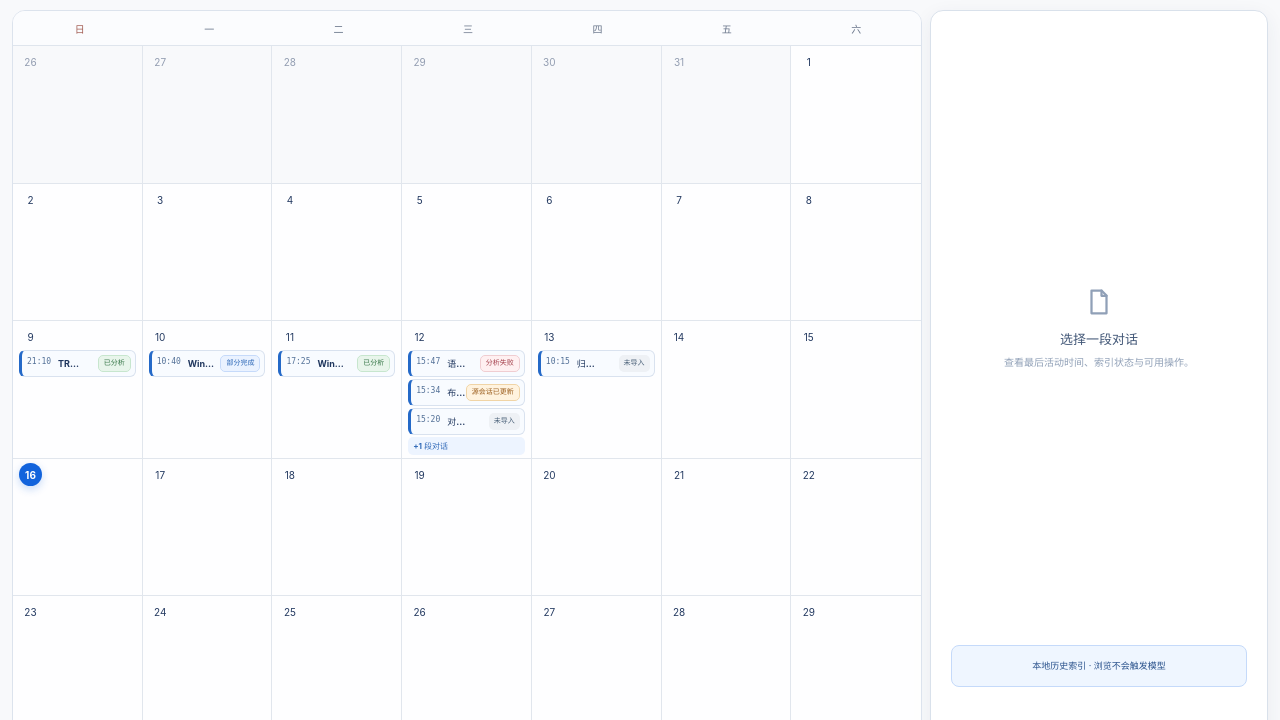
calendar presentation › renders 42 month cells and keeps only three cards before the overflow affordance
Click the button "+1 段对话" at (466, 446), box [408,436,525,454]
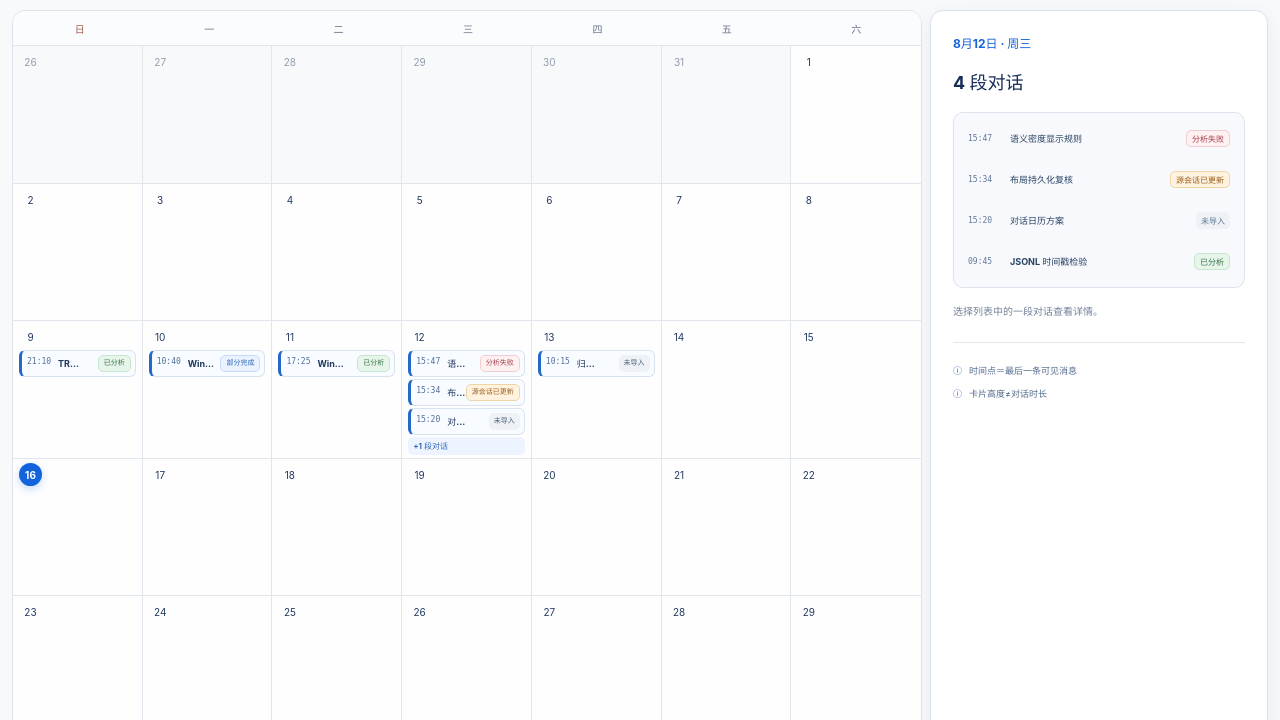
Expected: the element named "当日全部对话" is shown, [953,112,1245,288]
